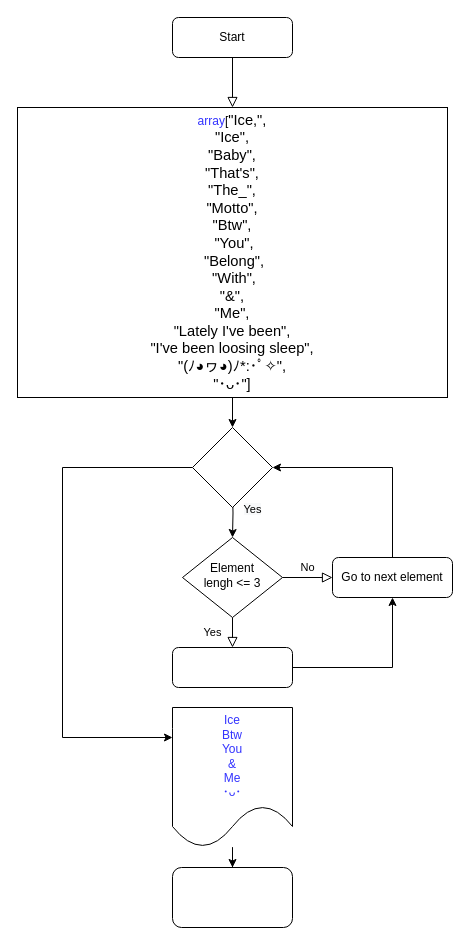
Some shapes in this 470 by 945 pixel diagram are drawn without their labels. The shapes that lost their labels are listed below. From the top down, each one's centre as x and y in pixels, then its label:
the point at 232,467: Element exists?
the point at 232,667: Print element
the point at 232,897: Finish
